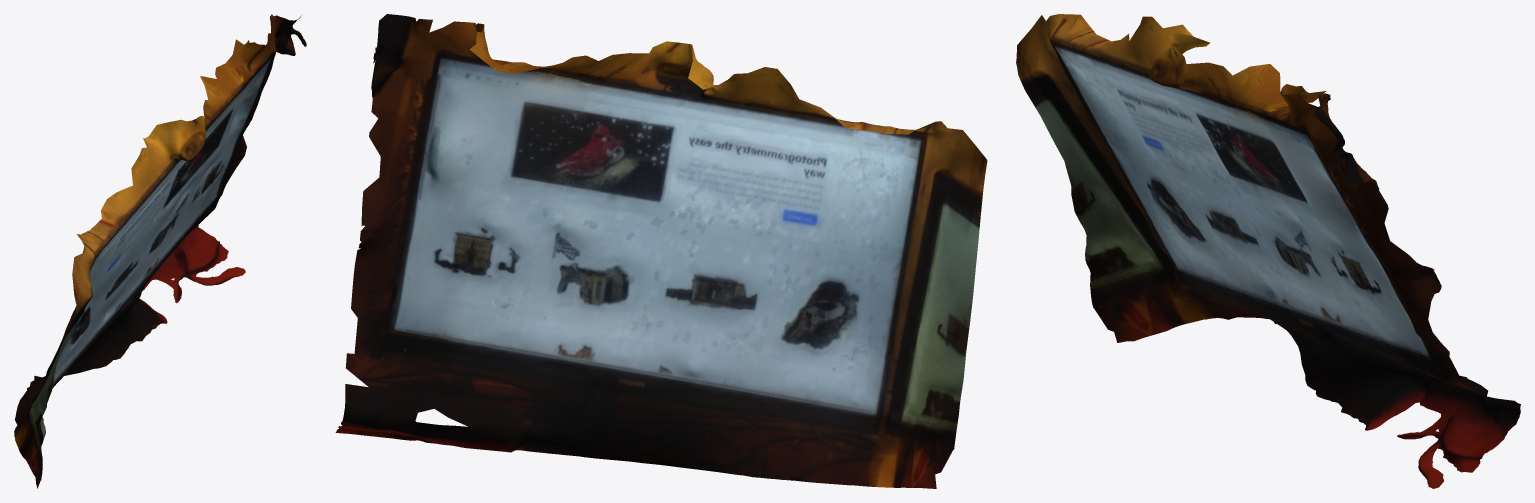
File: model14_prev.glb
3 views of the same model, side by side, from view 1: azimuth 30°, elevation 25°; view 2: azimuth 150°, elevation 25°; view 3: azimuth 270°, elevation 25° (orthographic). The views are drawn at different scales.
Bounding box in the file's own units: 1.11 × 1 × 1.02.
1 material, 1 textured.
